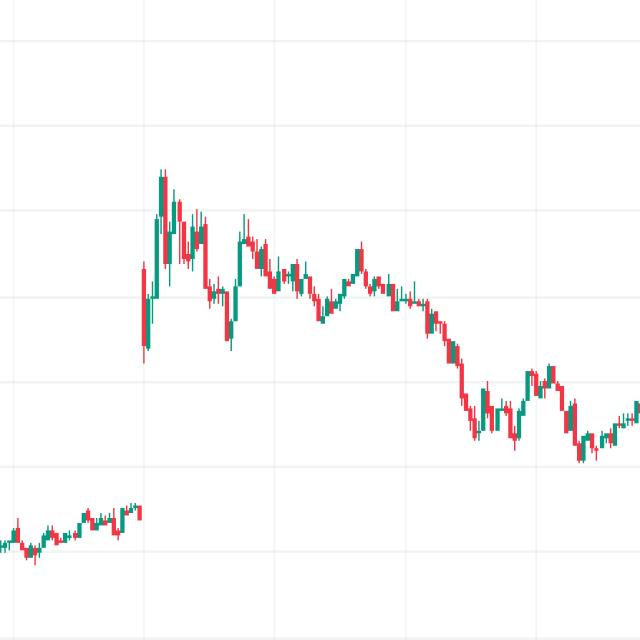Triangle: (125, 132, 488, 400)
